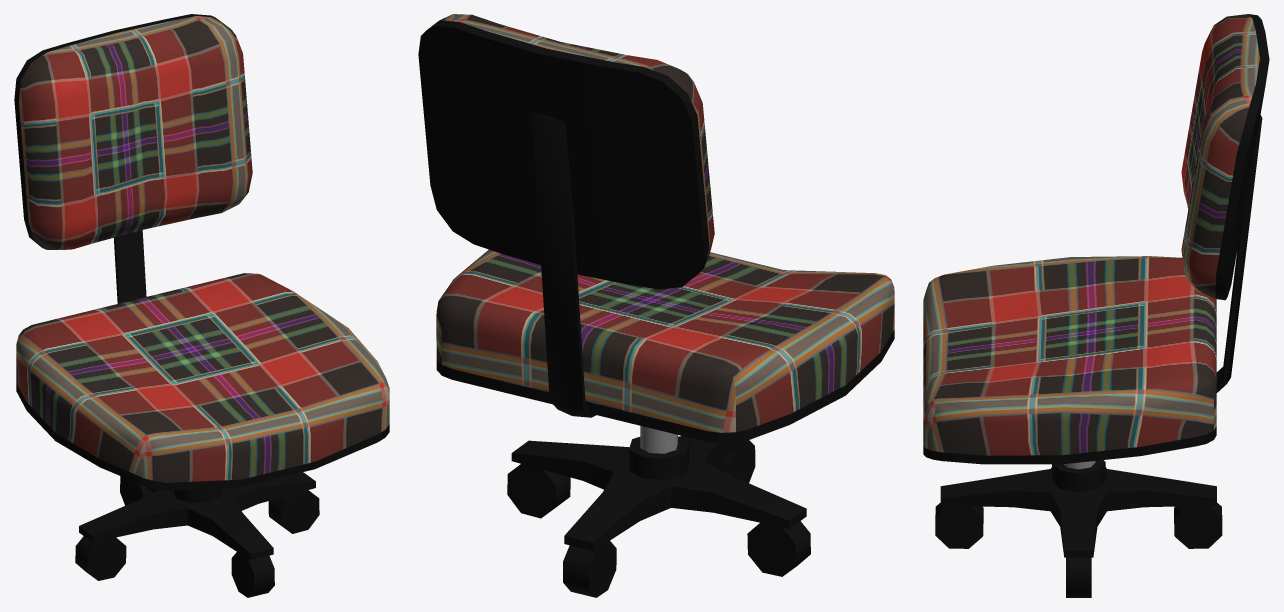
The model's file is chair.glb.
3 views of the same model, side by side, from view 1: azimuth 30°, elevation 25°; view 2: azimuth 150°, elevation 25°; view 3: azimuth 270°, elevation 25° (orthographic). The views are drawn at different scales.
Parts seen in each view (by area): view 1: chair; view 2: chair; view 3: chair.
Part boxes in pixels (x1,y1,x2,y2): chair: [14, 14, 389, 597]; chair: [418, 14, 894, 597]; chair: [923, 14, 1269, 597].
Bounding box in the file's own units: 0.5367 × 0.8019 × 0.5145.
Materials: 3 (1 with a texture image).
